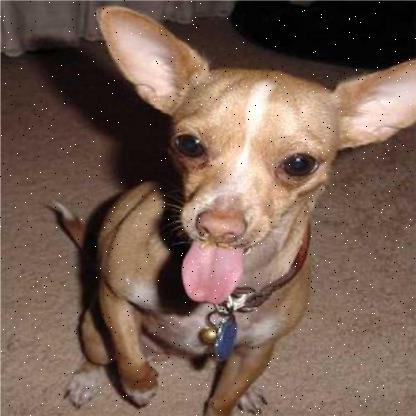dog: (51, 0, 388, 415)
